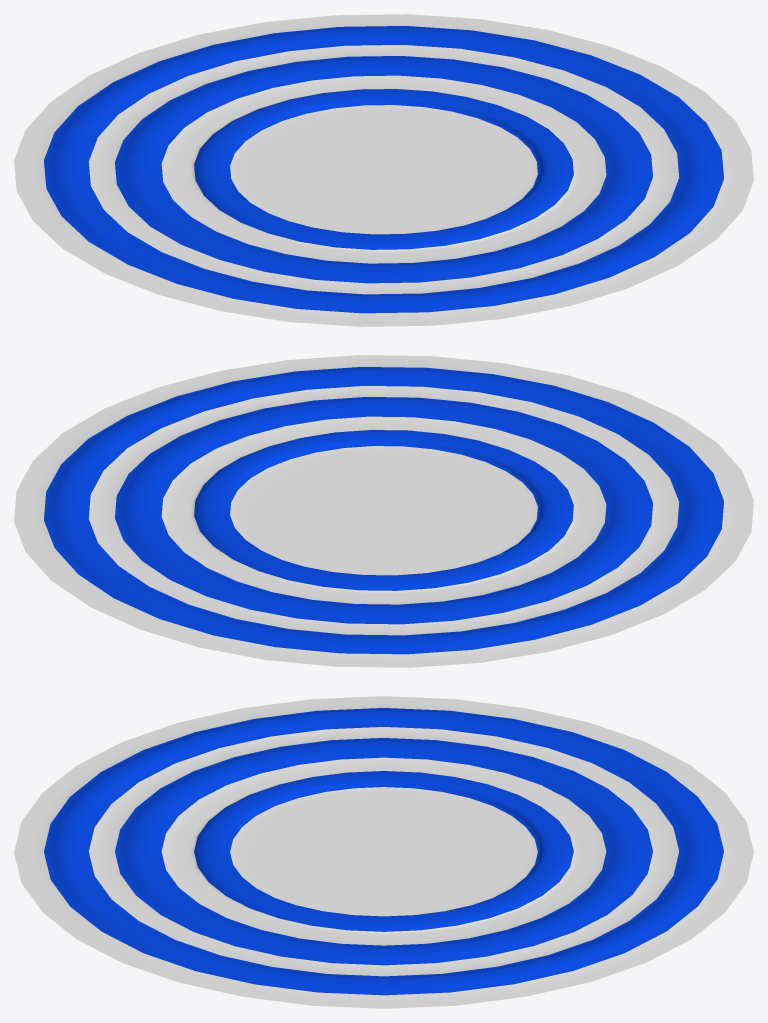
File: SM_Kitchen_FirePlace.fbx
The picture shows the model from 3 angles, top to bottom: view 1: azimuth 30°, elevation 25°; view 2: azimuth 150°, elevation 25°; view 3: azimuth 270°, elevation 25°; orthographic projection.
Parts seen in each view (by area): view 1: Plane.001; view 2: Plane.001; view 3: Plane.001.
Boxes of the visible parts, bbox=[...] form: Plane.001: bbox=[14, 14, 753, 326]; Plane.001: bbox=[14, 355, 753, 667]; Plane.001: bbox=[14, 696, 753, 1008].
Size of the model in its own units: 20.74 by 0.1549 by 20.74.
